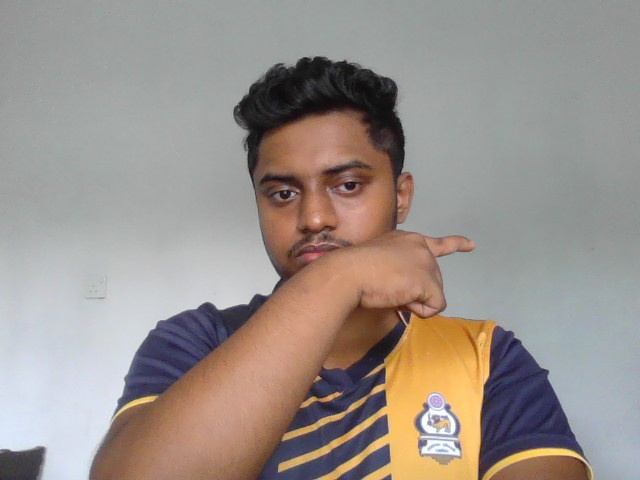Going To: (338, 230, 480, 320)
